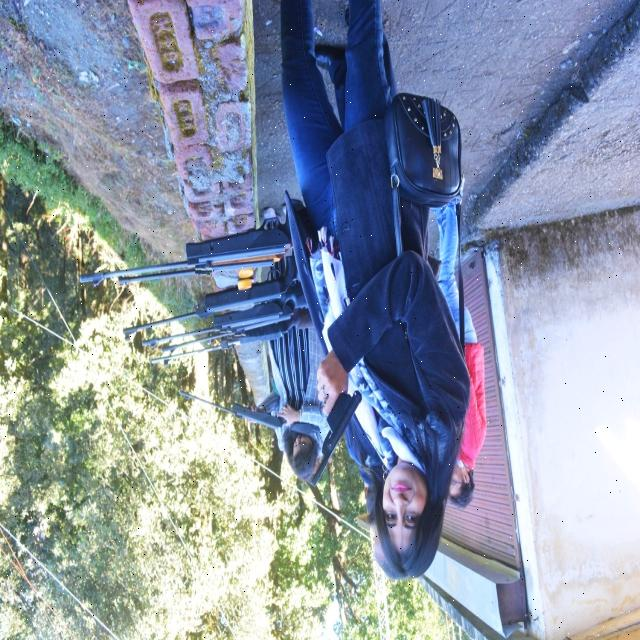gun: (308, 356, 370, 490)
